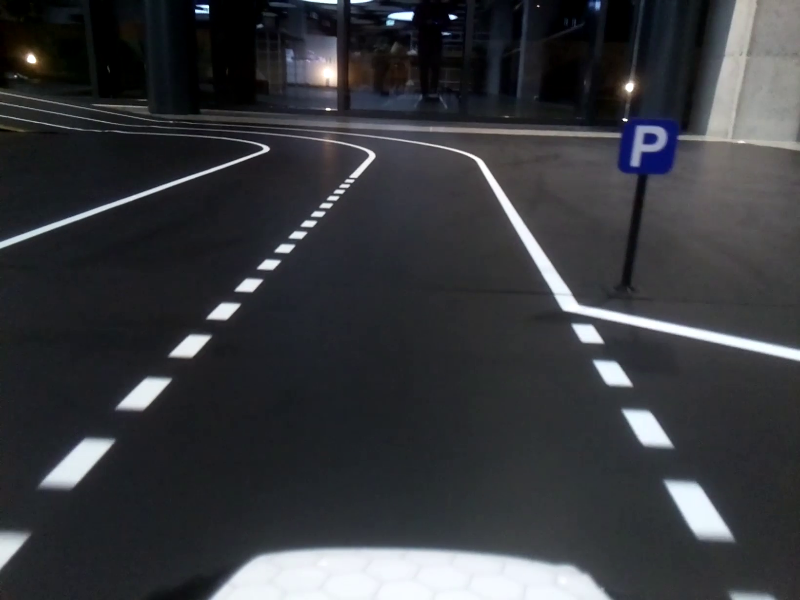park: (619, 124, 674, 175)
